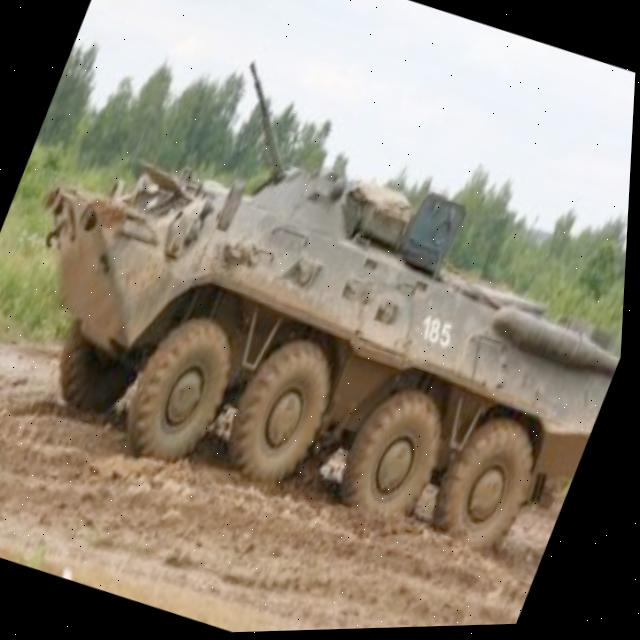MIL_APC: (0, 14, 639, 623)
